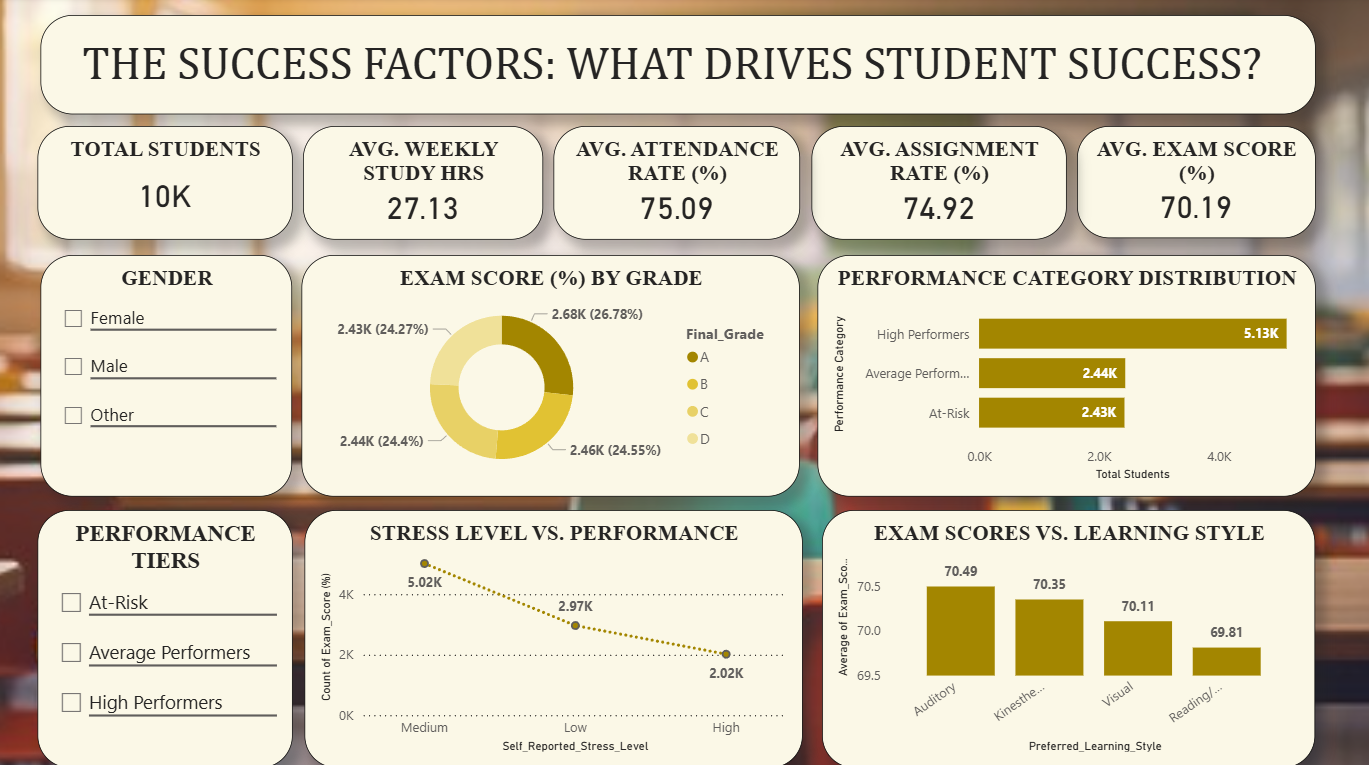

The page's visual inventory and layout, read from the dashboard file:
{"tool":"powerbi","page":{"name":"Page 6","canvas":[1280,720],"ordinal":5},"visuals":[{"type":"textbox","box":[40.6,16.8,1189.1,92.3],"z":0},{"type":"card","title":"TOTAL STUDENTS","fields":{"Values":["Student Performance Dataset (Data Analyst Capstone Project -1).Total Students"]},"box":[37.9,119.6,237.7,106],"z":1000},{"type":"card","title":"AVG. EXAM SCORE (%)","fields":{"Values":["Student Performance Dataset (Data Analyst Capstone Project -1).AVG. EXAM SCORE (%)"]},"box":[1007.3,120.3,222.4,104.9],"z":2000},{"type":"card","title":"AVG. WEEKLY STUDY HRS","fields":{"Values":["Avg(Student Performance Dataset (Data Analyst Capstone Project -1).Study_Hours_per_Week)"]},"box":[285.5,119.6,224.1,106],"z":3000},{"type":"card","title":"AVG. ASSIGNMENT RATE (%)","fields":{"Values":["Avg(Student Performance Dataset (Data Analyst Capstone Project -1).Assignment_Completion_Rate (%))"]},"box":[759.6,119.6,237.7,106],"z":4000},{"type":"slicer","title":"GENDER","fields":{"Values":["Student Performance Dataset (Data Analyst Capstone Project -1).Gender"]},"box":[40.9,240.8,234.7,225.6],"z":5000},{"type":"slicer","title":"PERFORMANCE TIERS","fields":{"Values":["Student Performance Dataset (Data Analyst Capstone Project -1).Performance Category"]},"box":[37.9,478.5,237.7,240.8],"z":6000},{"type":"card","title":"AVG. ATTENDANCE RATE (%)","fields":{"Values":["Avg(Student Performance Dataset (Data Analyst Capstone Project -1).Attendance_Rate (%))"]},"box":[519.5,119.6,230.2,106],"z":7000},{"type":"donutChart","title":"EXAM SCORE (%) BY GRADE","fields":{"Y":["CountNonNull(Student Performance Dataset (Data Analyst Capstone Project -1).Exam_Score (%))"],"Category":["Student Performance Dataset (Data Analyst Capstone Project -1).Final_Grade"]},"box":[284.7,240.8,464.9,225.6],"z":8000},{"type":"clusteredBarChart","title":"PERFORMANCE CATEGORY DISTRIBUTION","fields":{"Y":["Student Performance Dataset (Data Analyst Capstone Project -1).Total Students"],"Category":["Student Performance Dataset (Data Analyst Capstone Project -1).Performance Category"]},"box":[764.7,240.8,464.9,225.6],"z":9000},{"type":"clusteredColumnChart","title":"EXAM SCORES VS. LEARNING STYLE","fields":{"Y":["Avg(Student Performance Dataset (Data Analyst Capstone Project -1).Exam_Score (%))"],"Category":["Student Performance Dataset (Data Analyst Capstone Project -1).Preferred_Learning_Style"]},"box":[769.2,478.5,460.3,240.8],"z":10000},{"type":"lineChart","title":"STRESS LEVEL VS. PERFORMANCE","fields":{"Y":["CountNonNull(Student Performance Dataset (Data Analyst Capstone Project -1).Exam_Score (%))"],"Category":["Student Performance Dataset (Data Analyst Capstone Project -1).Self_Reported_Stress_Level"]},"box":[286.2,478.5,464.9,240.8],"z":11000}]}

Visuals, with their boxes in screenshot pixels (x1, y1, x2, y2), scaled from the page's 1280x720 canvas onto the 1369x765 screenshot:
textbox: box(43, 18, 1315, 116)
"TOTAL STUDENTS" card: box(41, 127, 295, 240)
"AVG. EXAM SCORE (%)" card: box(1077, 128, 1315, 239)
"AVG. WEEKLY STUDY HRS" card: box(305, 127, 545, 240)
"AVG. ASSIGNMENT RATE (%)" card: box(812, 127, 1067, 240)
"GENDER" slicer: box(44, 256, 295, 496)
"PERFORMANCE TIERS" slicer: box(41, 508, 295, 764)
"AVG. ATTENDANCE RATE (%)" card: box(556, 127, 802, 240)
"EXAM SCORE (%) BY GRADE" donutChart: box(304, 256, 802, 496)
"PERFORMANCE CATEGORY DISTRIBUTION" clusteredBarChart: box(818, 256, 1315, 496)
"EXAM SCORES VS. LEARNING STYLE" clusteredColumnChart: box(823, 508, 1315, 764)
"STRESS LEVEL VS. PERFORMANCE" lineChart: box(306, 508, 803, 764)
